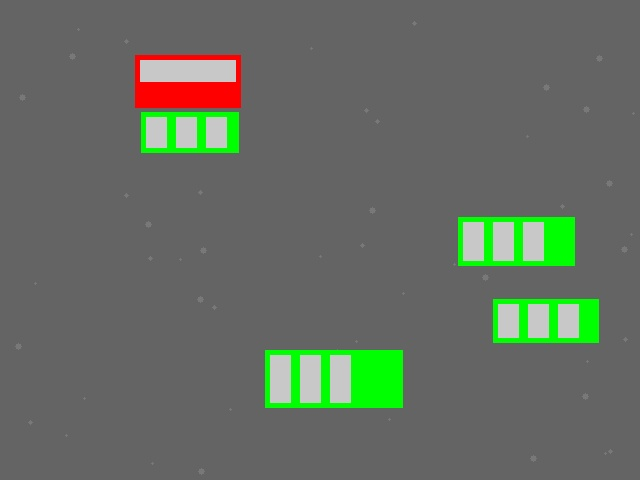bus: (265, 350, 402, 407), (458, 217, 574, 265), (493, 299, 598, 342), (141, 112, 238, 152)
car: (135, 55, 240, 107)
